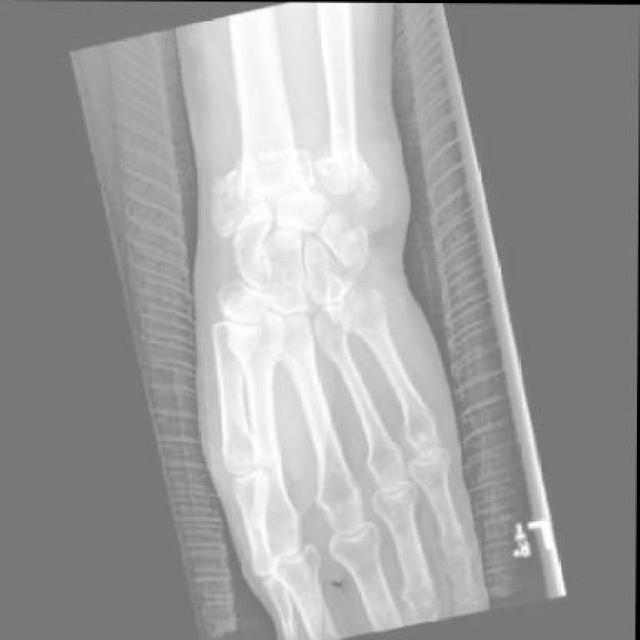Fracture: (188, 142, 318, 232), (313, 136, 381, 207), (332, 225, 371, 270)
